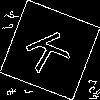K: (25, 25, 80, 74)
